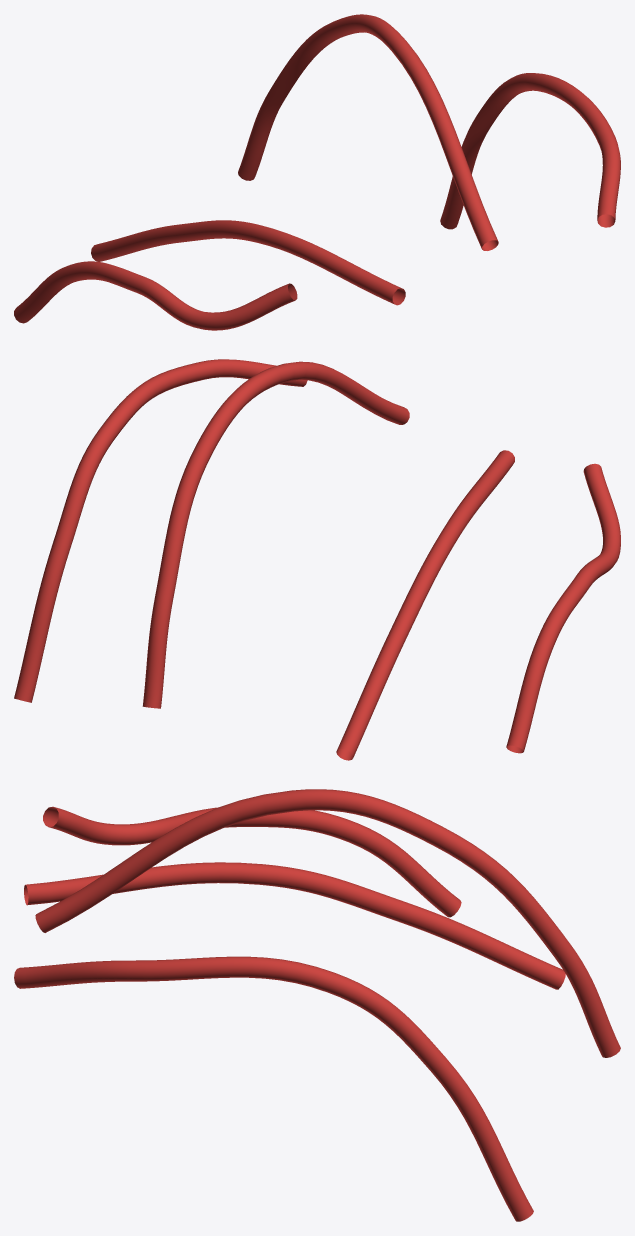
The picture shows the model from 3 angles, top to bottom: view 1: azimuth 30°, elevation 25°; view 2: azimuth 150°, elevation 25°; view 3: azimuth 270°, elevation 25°; orthographic projection. The views are drawn at different scales.
Parts seen in each view (by area): view 1: 右侧掌心动脉; view 2: 右侧掌心动脉; view 3: 右侧掌心动脉.
Part boxes in pixels (box(x1,y1,x2,y2)): 右侧掌心动脉: box(14, 14, 620, 330); 右侧掌心动脉: box(14, 359, 620, 760); 右侧掌心动脉: box(14, 789, 620, 1221).
Bounding box in the file's own units: 0.0621 × 0.0373 × 0.0592.
